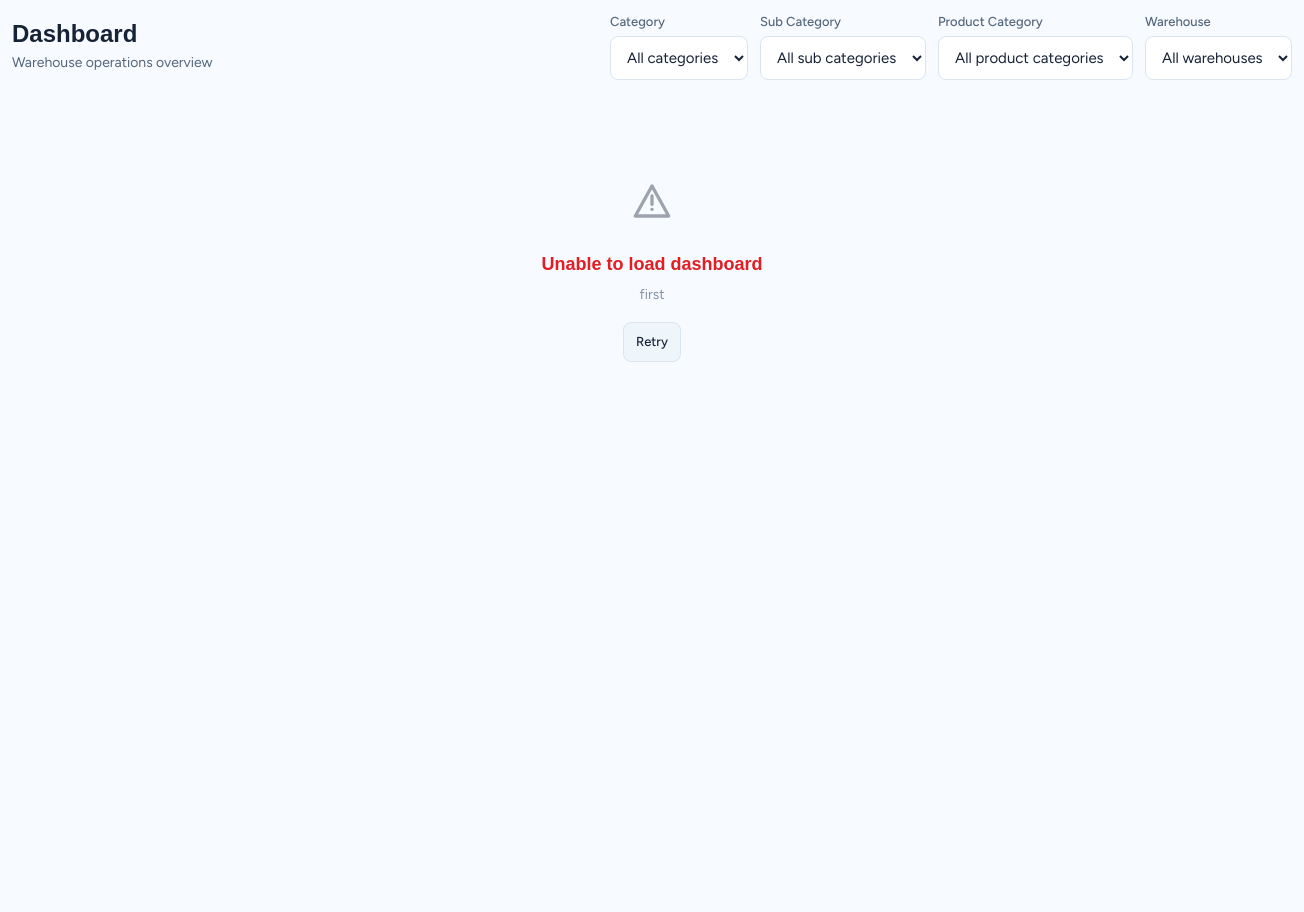
it: DashboardPage — retry › clicking retry re-fetches the summary endpoint
expect the heading "Unable to load dashboard" is shown: met, box [542,254,762,276]
Click the button "Retry": [652, 342] box [623,322,681,362]
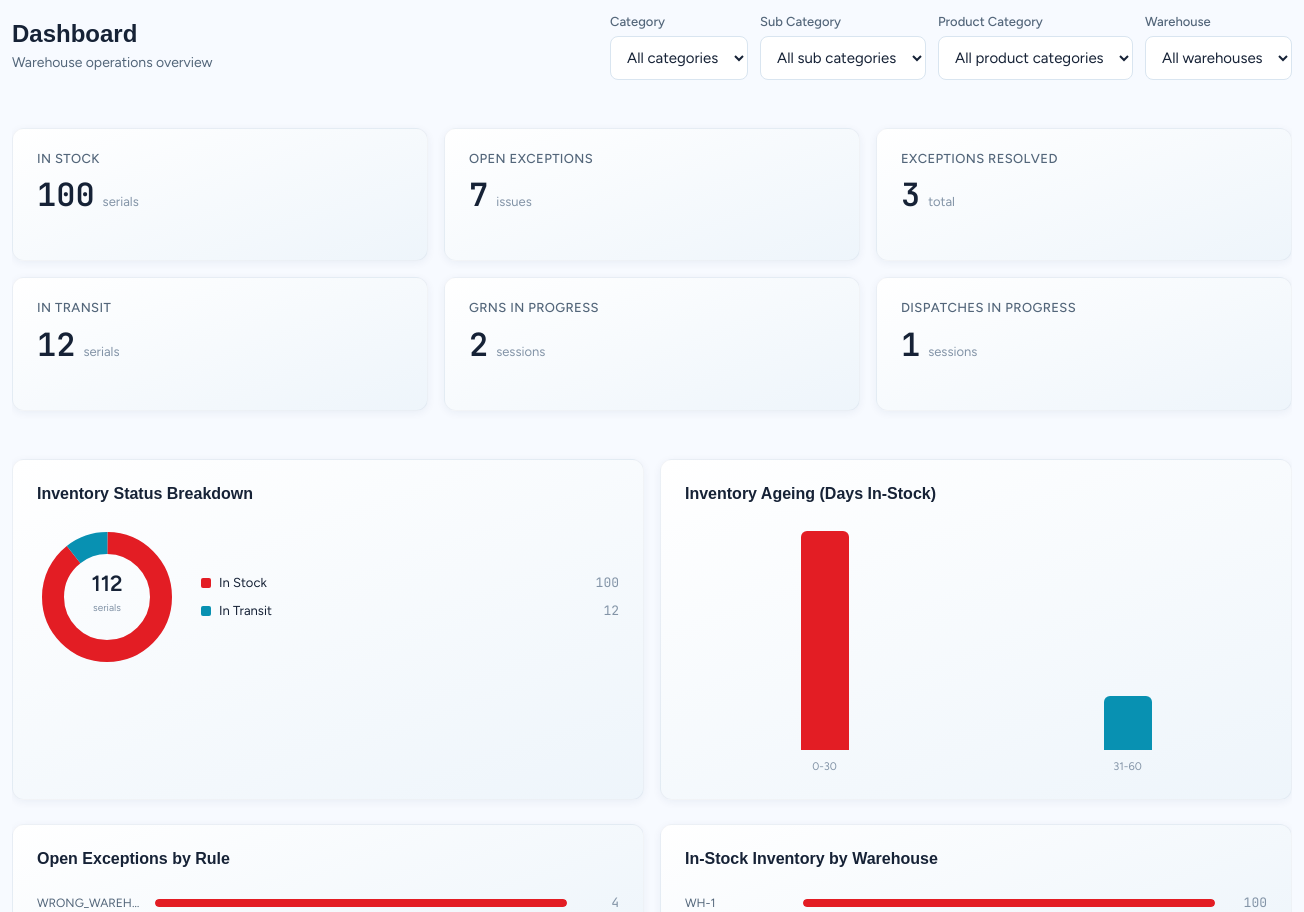
expect the text "GRNs In Progress" is shown: met, box [469,298,599,319]
